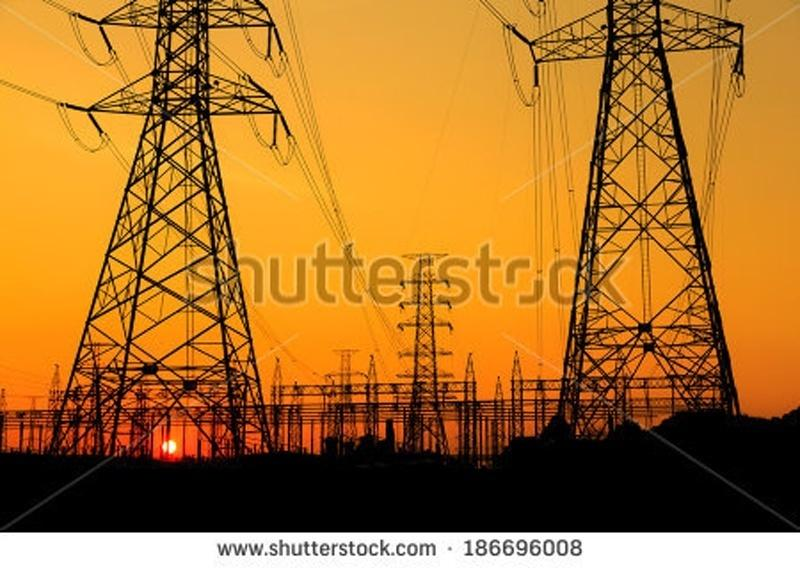power_tower: (71, 10, 279, 450), (539, 11, 742, 423), (397, 254, 453, 451)
